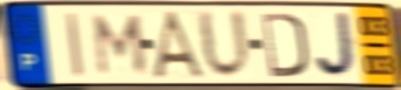A: (150, 9, 211, 82)
D: (259, 11, 310, 80)
I: (64, 10, 86, 81)
J: (312, 10, 360, 80)
M: (92, 12, 149, 77)
U: (195, 8, 254, 82)
